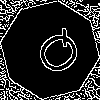Q: (25, 25, 87, 85)
